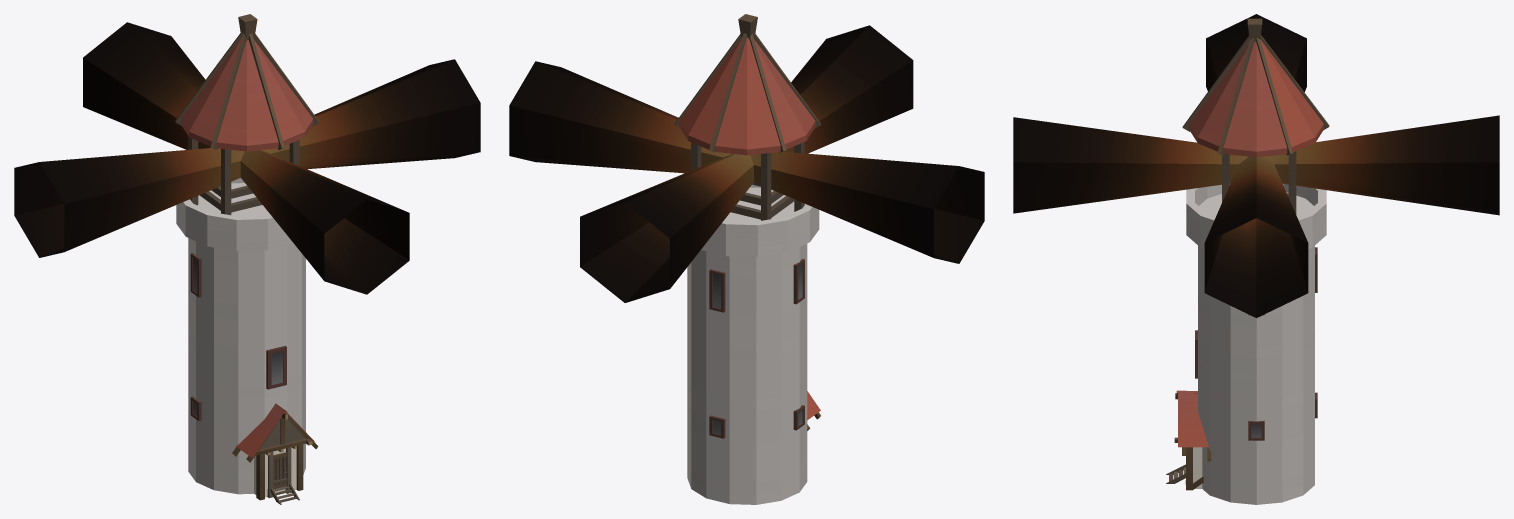
Rendered from LightHouse_LOD1.fbx.
3 renders of one model, left to right at view 1: azimuth 30°, elevation 25°; view 2: azimuth 150°, elevation 25°; view 3: azimuth 270°, elevation 25°, orthographic.
Parts seen in each view (by area): view 1: Light, House; view 2: Light, House; view 3: Light, House.
Boxes of the visible parts, x1,y1,x2,y2 form: Light: [14, 22, 480, 294]; House: [175, 14, 319, 504]; Light: [509, 25, 984, 302]; House: [674, 14, 820, 504]; Light: [1013, 14, 1499, 317]; House: [1166, 18, 1329, 504].
Size of the model in its own units: 1820 by 1892 by 1820.
